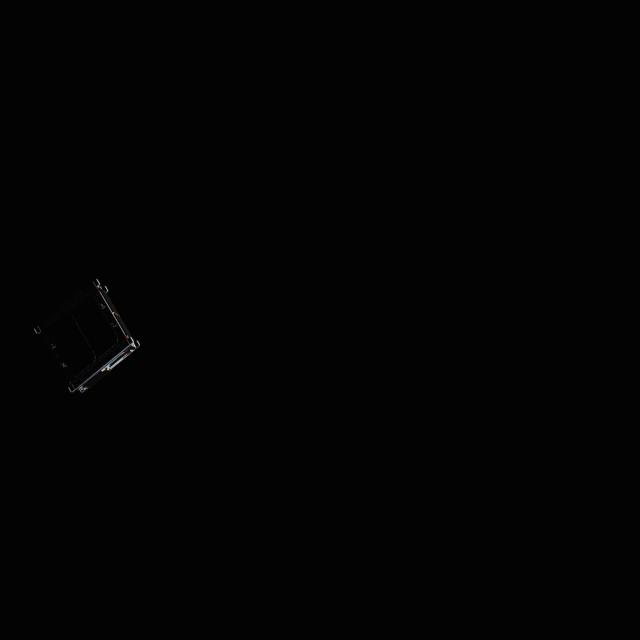satellite: (18, 270, 143, 400)
